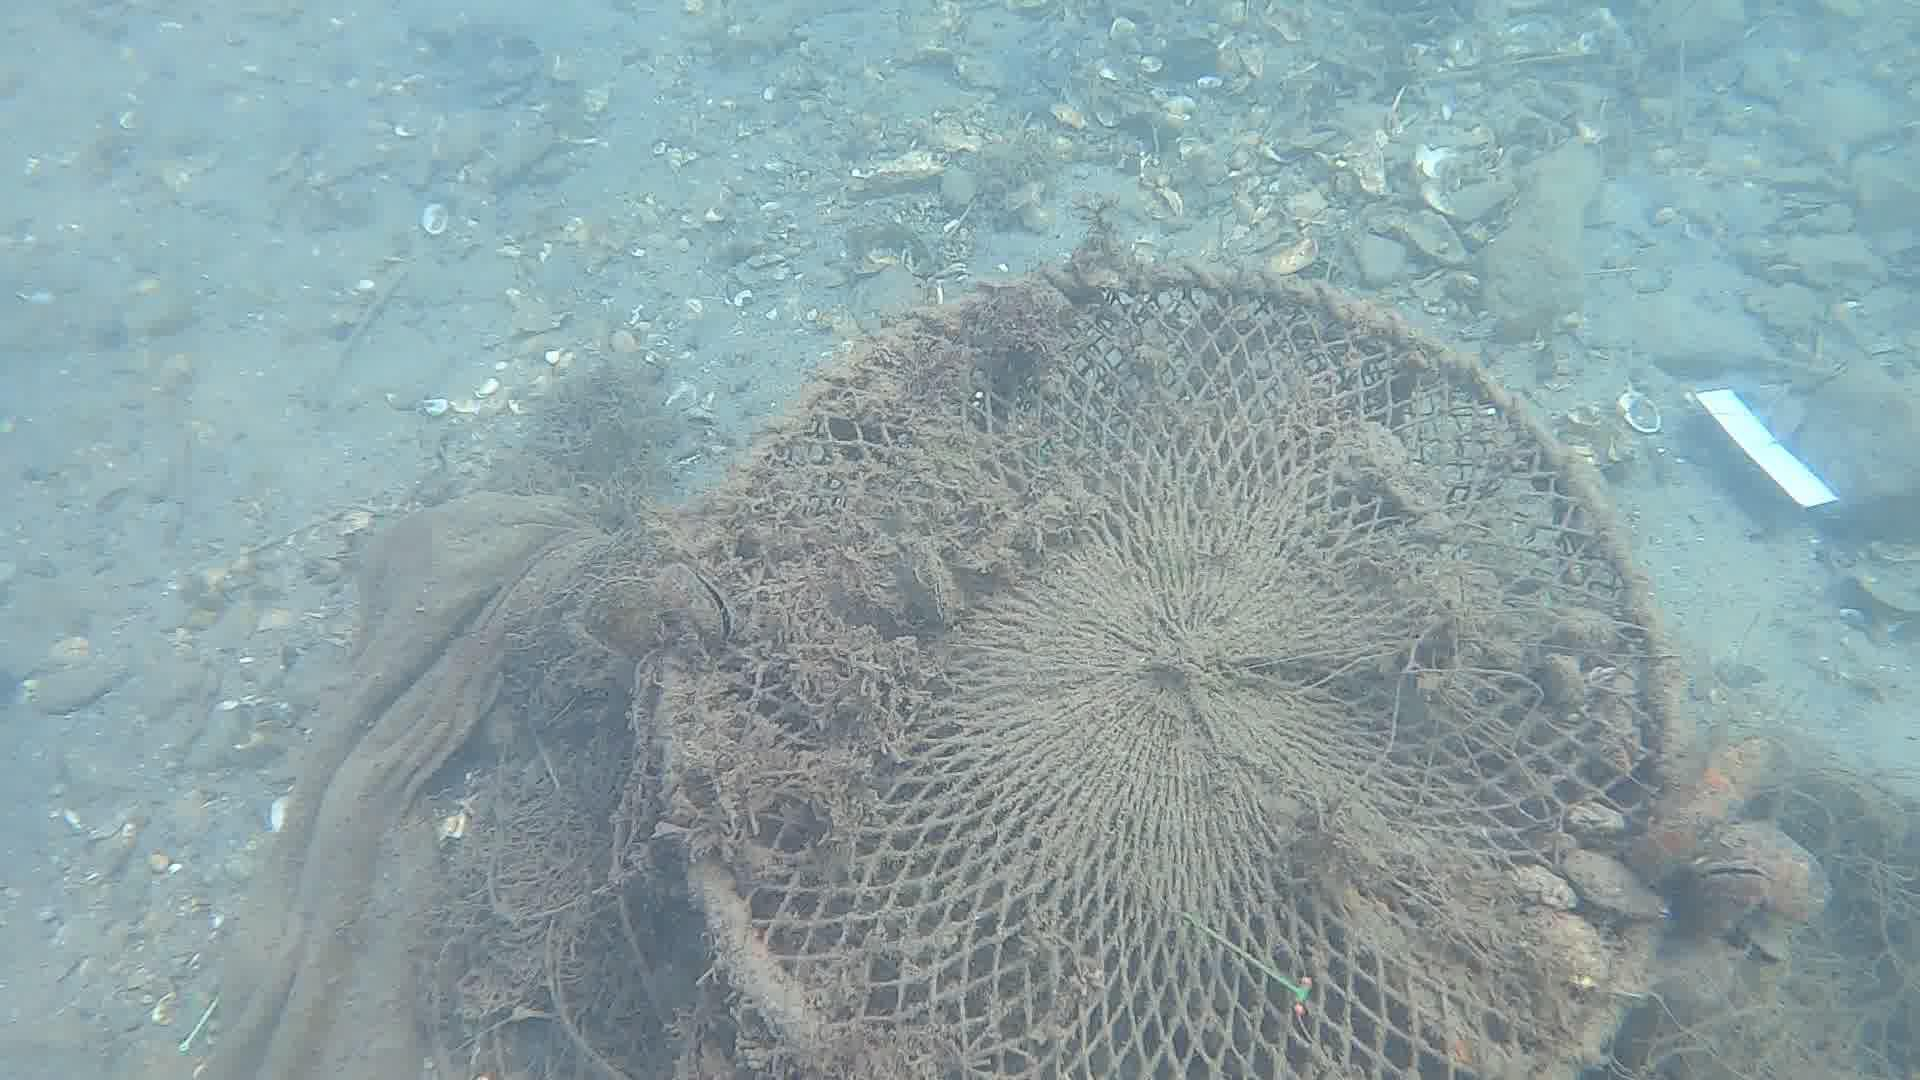circular fish trap: (642, 255, 1684, 1080)
